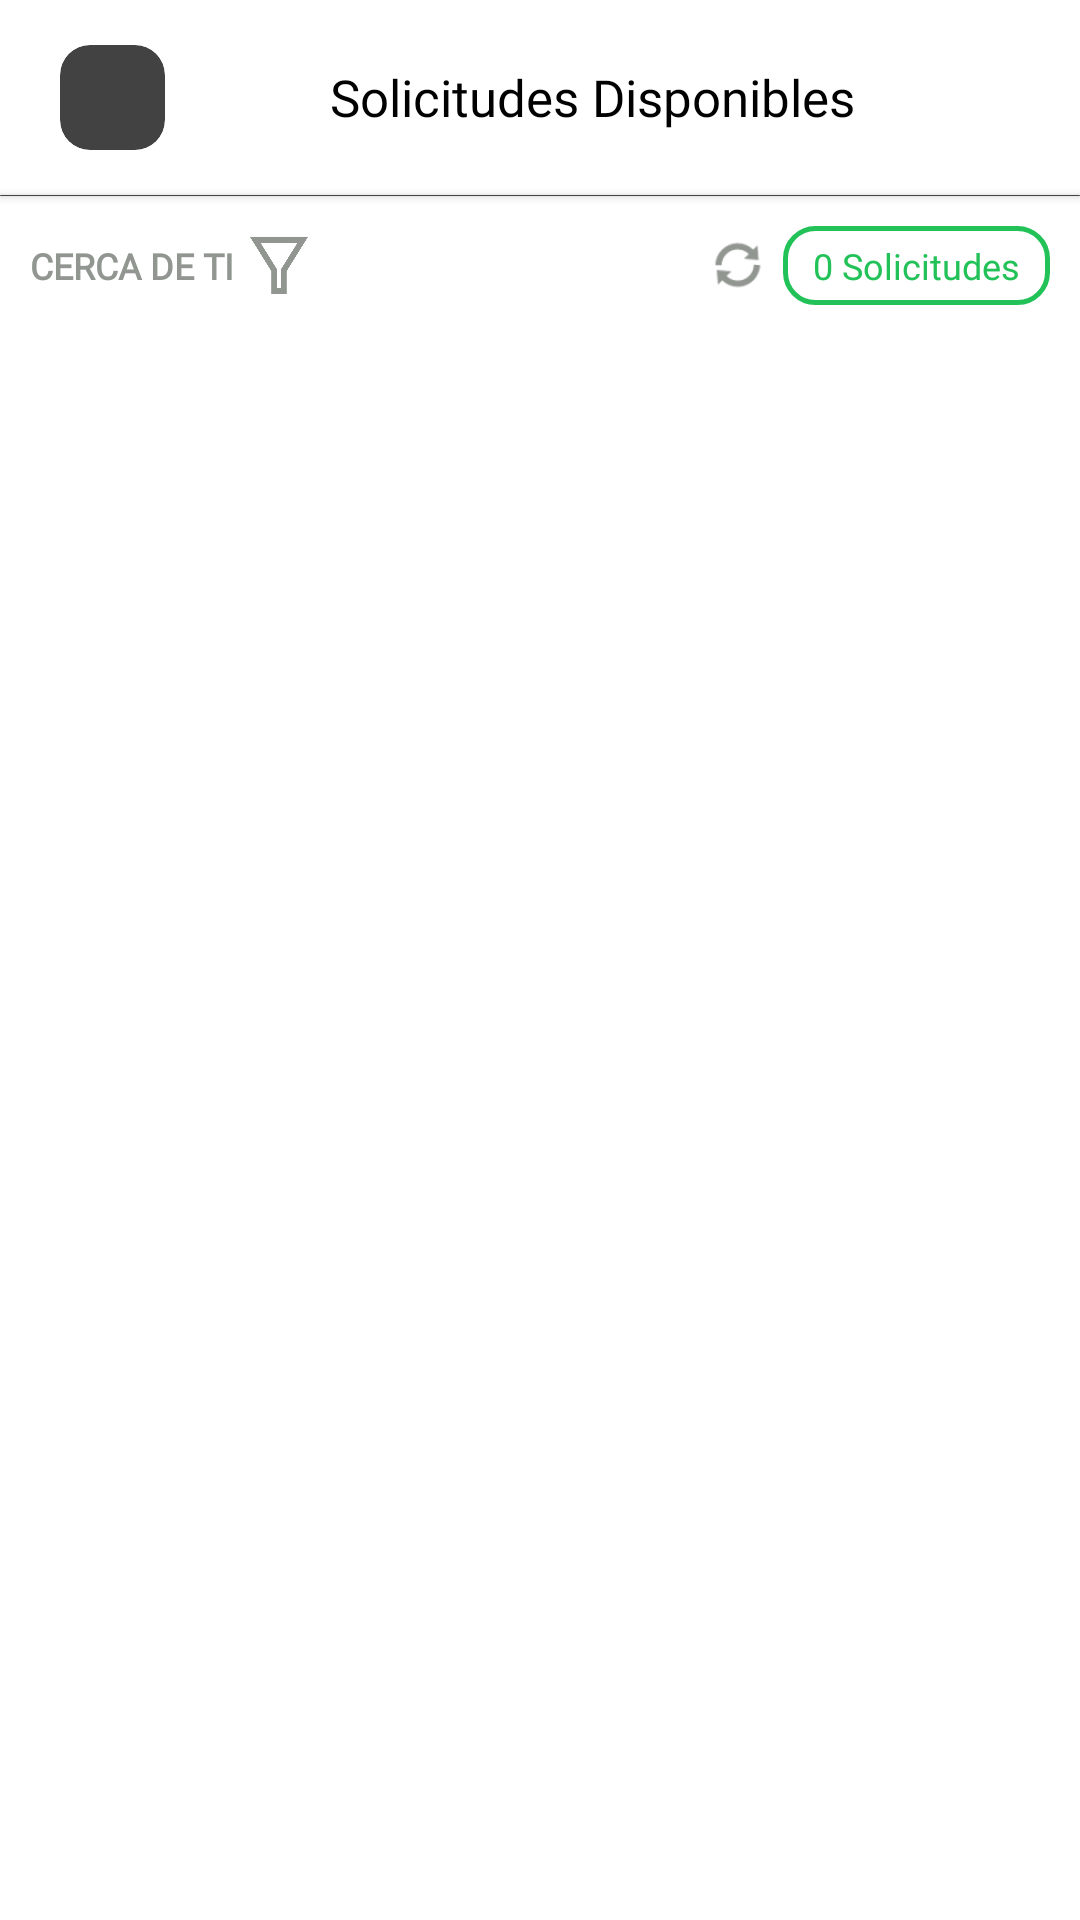

Icons on this 1080 × 1920 Android screen, each with its box as [x1, y1, x2, y2]:
filtro: [250, 237, 308, 294]
popup sync: [715, 243, 761, 287]
